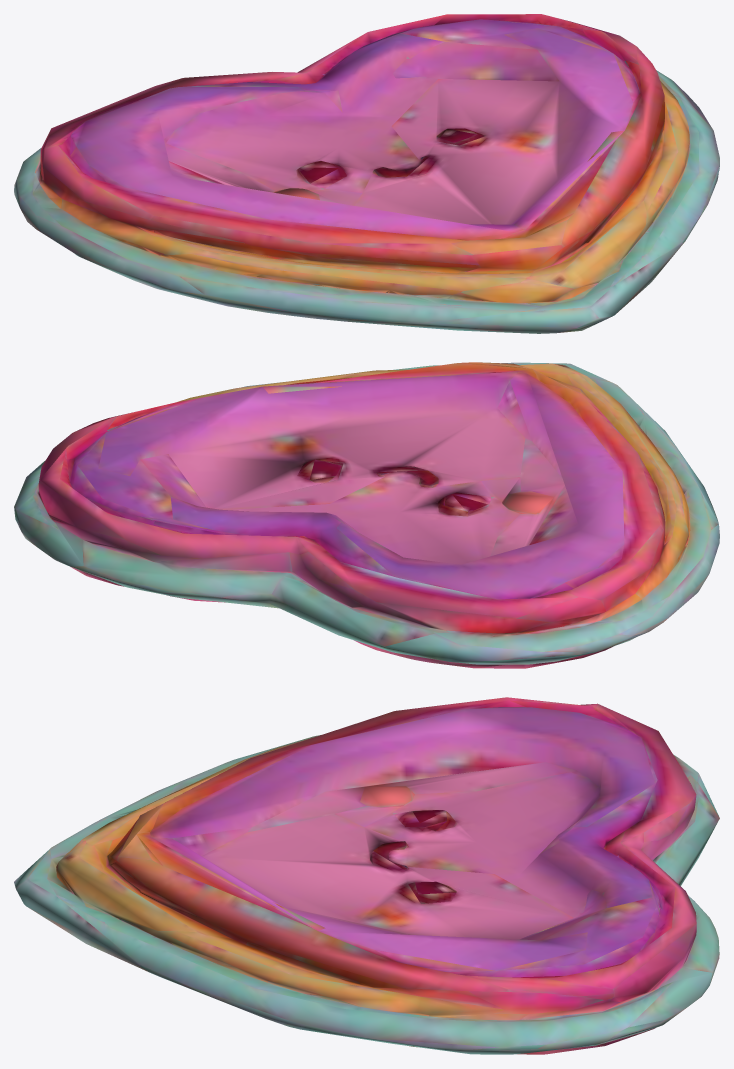
3 views of the same model, one above another, from view 1: azimuth 30°, elevation 25°; view 2: azimuth 150°, elevation 25°; view 3: azimuth 270°, elevation 25° (orthographic). The views are drawn at different scales.
Parts seen in each view (by area): view 1: material; view 2: material; view 3: material.
Boxes of the visible parts, x1,y1,x2,y2 form: material: (14, 14, 719, 333); material: (14, 362, 719, 668); material: (14, 697, 719, 1054).
Size of the model in its own units: 1 by 0.115 by 0.9141.
1 material, 1 textured.
